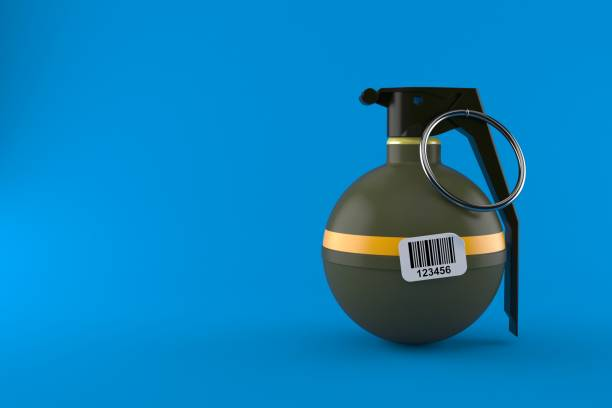e1: (321, 84, 530, 354)
